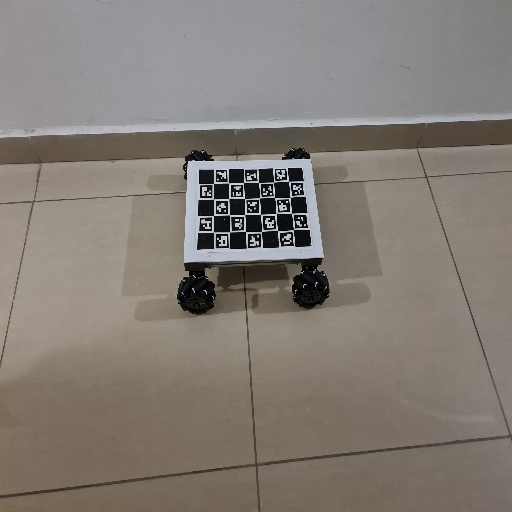Omniwheel: (176, 149, 331, 317)
